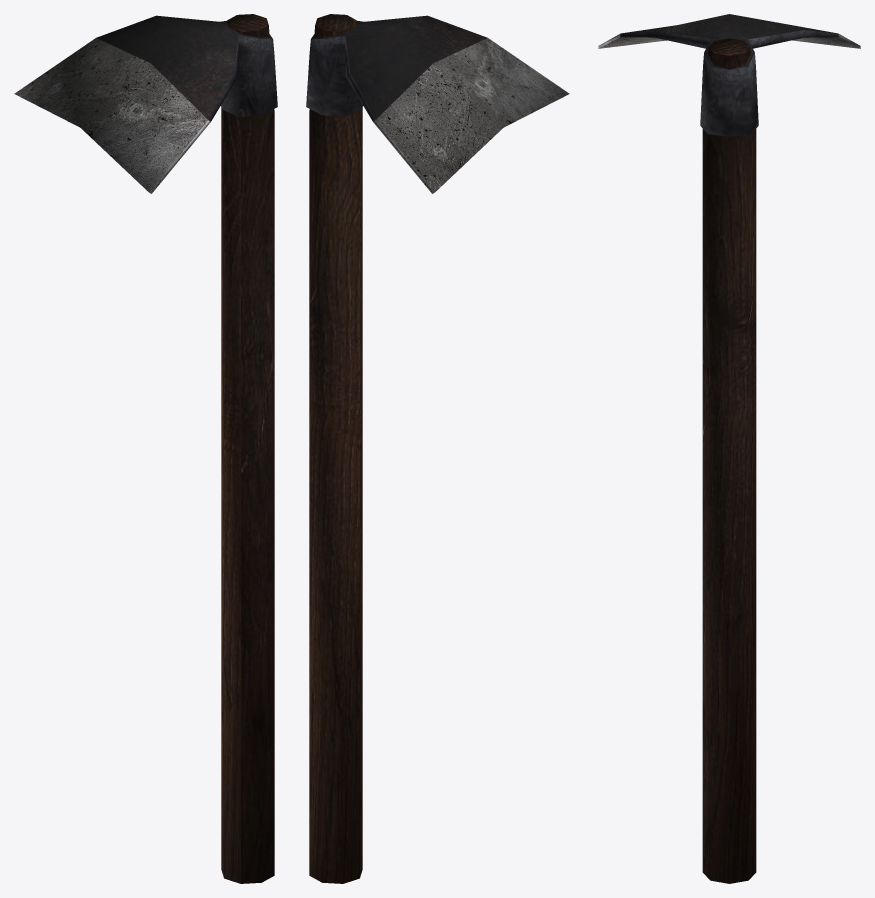
File: pickaxe1.fbx
3 views of the same model, side by side, from view 1: azimuth 30°, elevation 25°; view 2: azimuth 150°, elevation 25°; view 3: azimuth 270°, elevation 25° (orthographic). The views are drawn at different scales.
Visible parts, largest first — view 1: Cube.005; view 2: Cube.005; view 3: Cube.005.
Part boxes in pixels (x1,y1,x2,y2): Cube.005: [14, 14, 277, 883]; Cube.005: [306, 14, 569, 883]; Cube.005: [598, 14, 860, 883].
Size of the model in its own units: 20.18 by 24.66 by 86.33.
3 materials, 3 textured.
